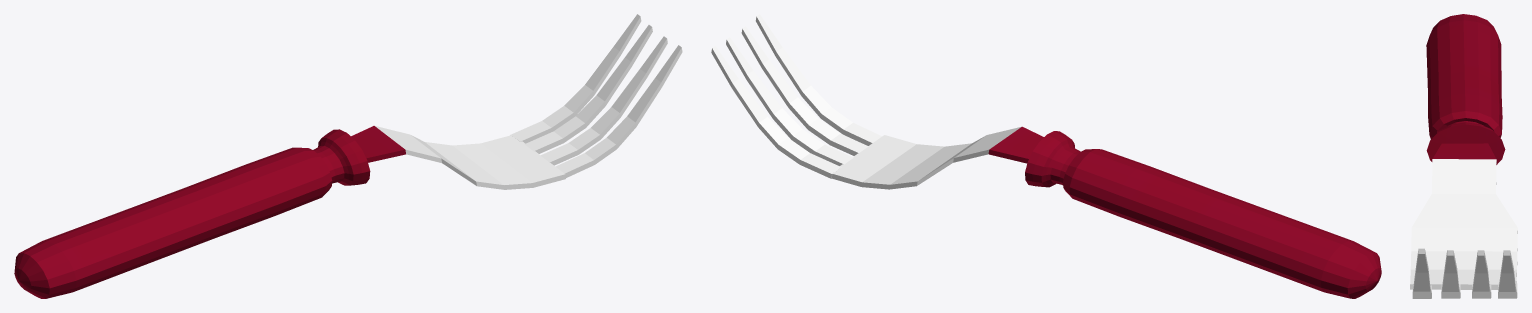
Rendered from fork1.dae.
The picture shows the model from 3 angles, left to right: view 1: azimuth 30°, elevation 25°; view 2: azimuth 150°, elevation 25°; view 3: azimuth 270°, elevation 25°; orthographic projection.
Parts seen in each view (by area): view 1: fork1; view 2: fork1; view 3: fork1.
Boxes of the visible parts, x1,y1,x2,y2 form: fork1: [14, 14, 682, 298]; fork1: [711, 14, 1381, 298]; fork1: [1410, 14, 1517, 298].
Size of the model in its own units: 0.1863 by 0.0271 by 0.0313.
2 materials, 2 textured.
